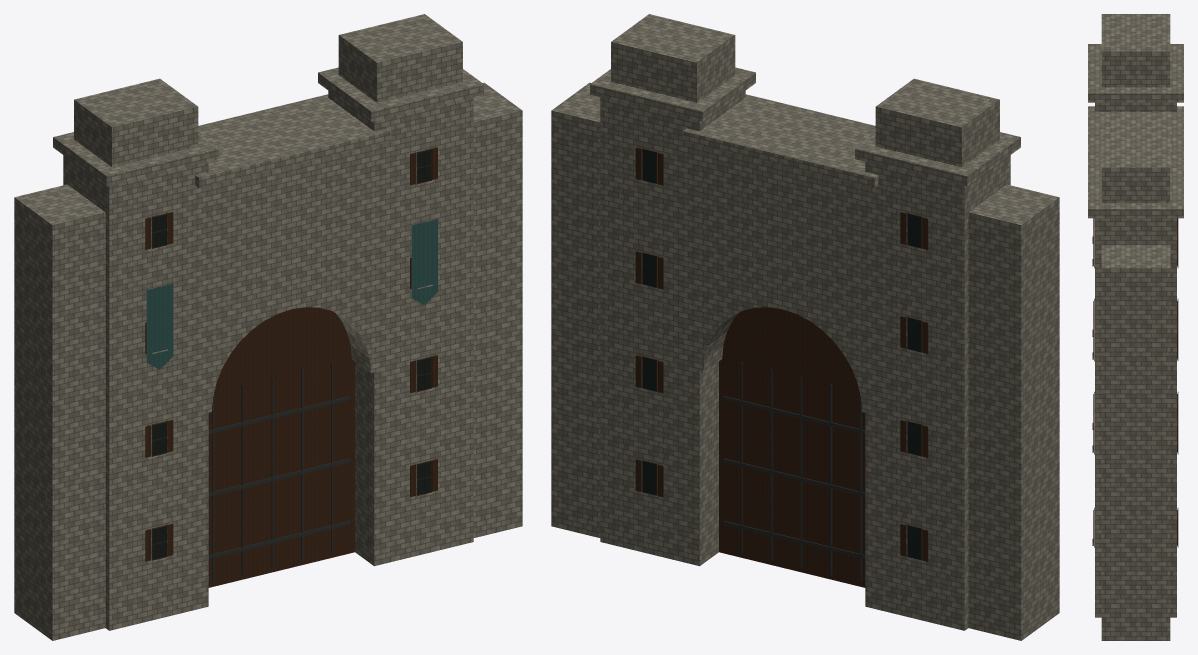
Rendered from SG_Gate_Fortress_LOD0.fbx.
3 views of the same model, side by side, from view 1: azimuth 30°, elevation 25°; view 2: azimuth 150°, elevation 25°; view 3: azimuth 270°, elevation 25° (orthographic). The views are drawn at different scales.
Parts seen in each view (by area): view 1: SG_Gate_Fortress_Detail0; view 2: SG_Gate_Fortress_Detail0; view 3: SG_Gate_Fortress_Detail0.
Part boxes in pixels (x1,y1,x2,y2): SG_Gate_Fortress_Detail0: (14,14,522,640); SG_Gate_Fortress_Detail0: (551,14,1059,640); SG_Gate_Fortress_Detail0: (1088,14,1183,640).
Size of the model in its own units: 142 by 144 by 28.
